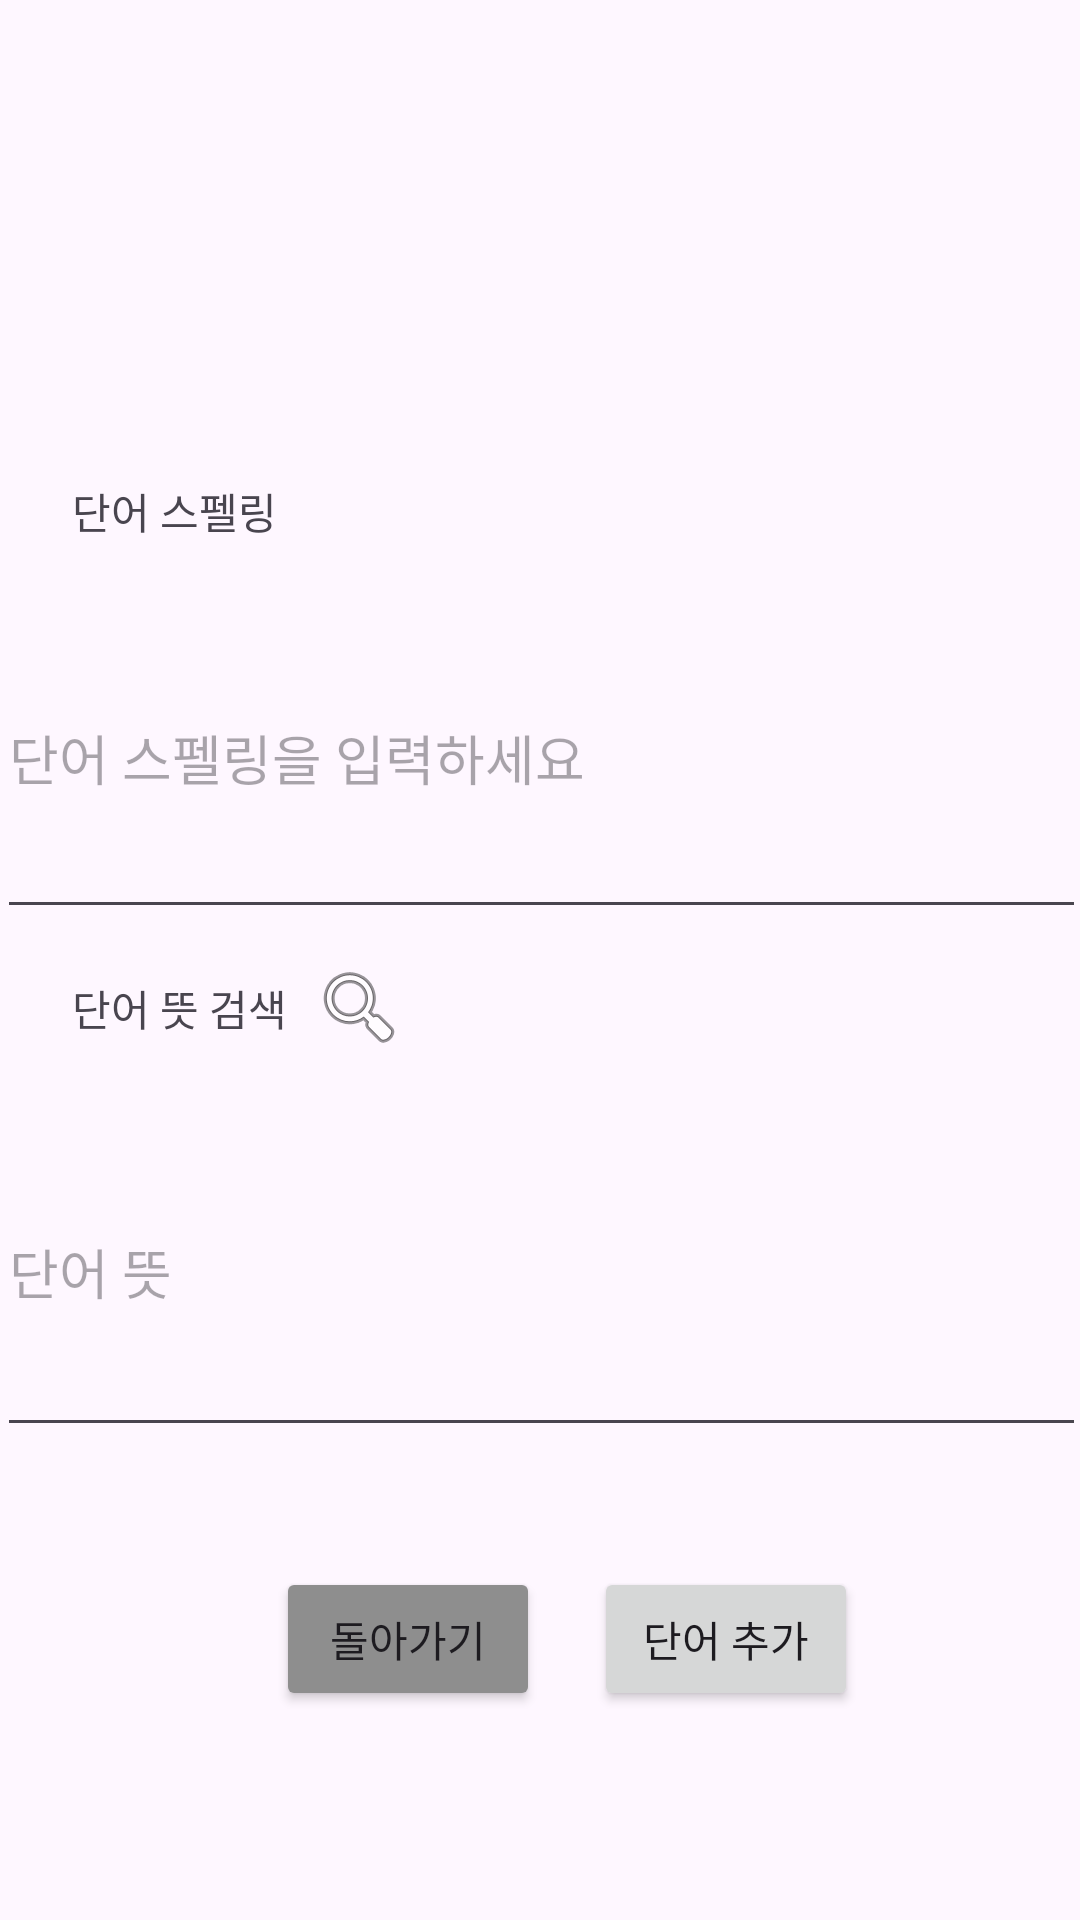

Icon bounding boxes for this 1080 × 1920 phone screenshot, format (x1, y1, x2, y2):
search: (323, 972, 395, 1043)
